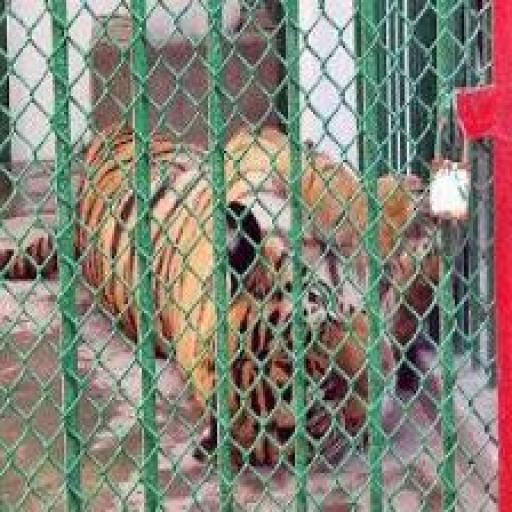Tiger: (2, 112, 456, 466)
